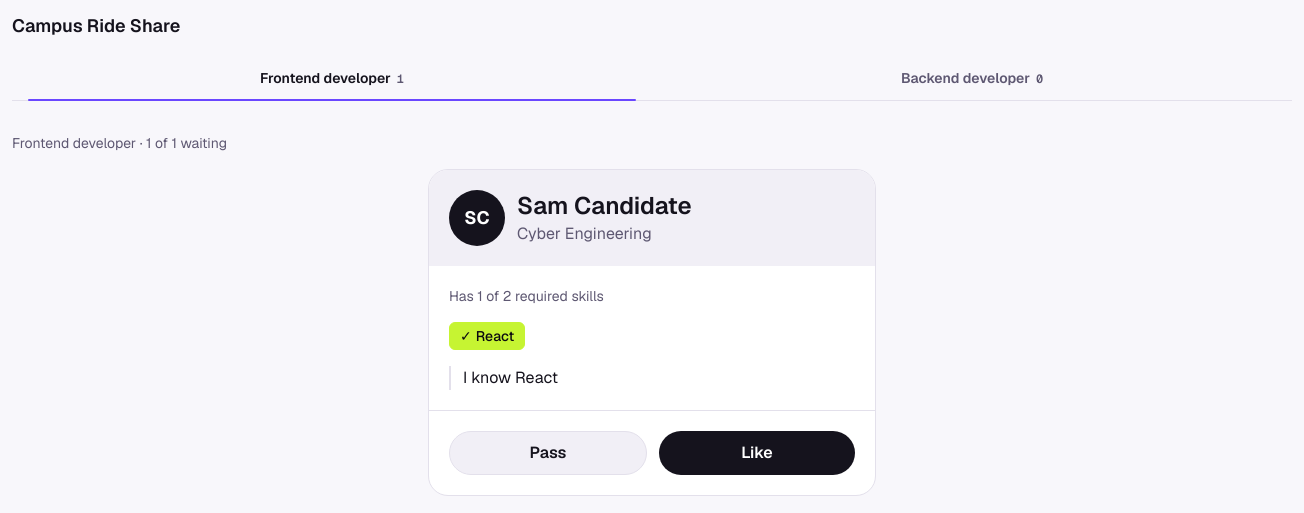
Test case: liking sends the like with the CSRF token and moves on
Click the button with aria-label "Like Sam Candidate" at [757, 453], box x1=659 y1=431 x2=855 y2=475
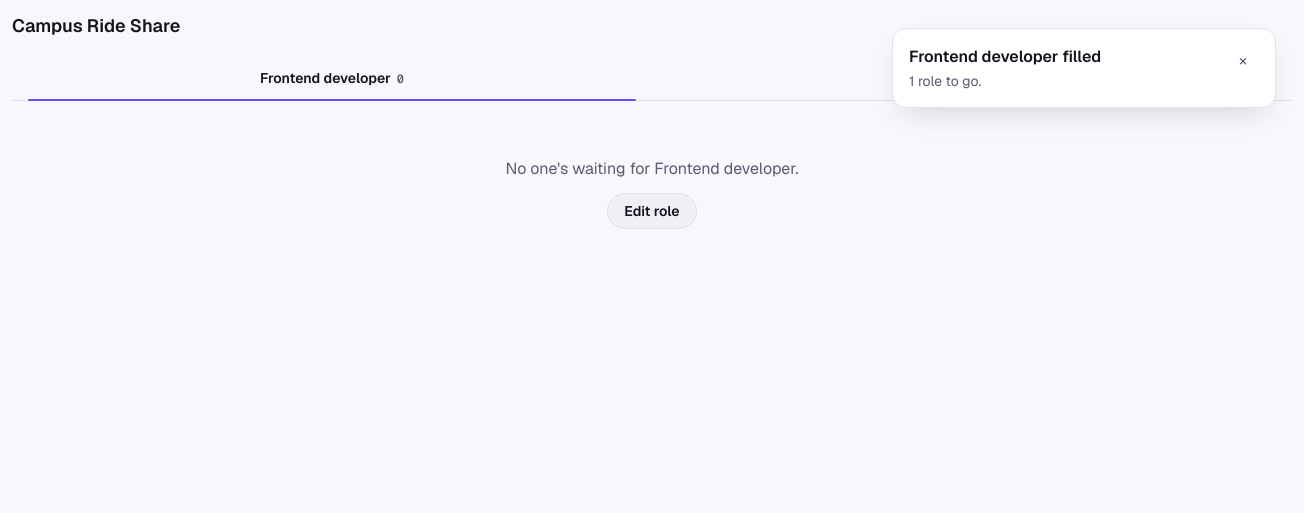
Now the text "Frontend developer filled" is shown, box x1=909 y1=46 x2=1101 y2=67
Now the text "1 role to go." is shown, box x1=909 y1=72 x2=981 y2=90
Now the text "No one's waiting for Frontend developer." is shown, box x1=506 y1=157 x2=798 y2=181
